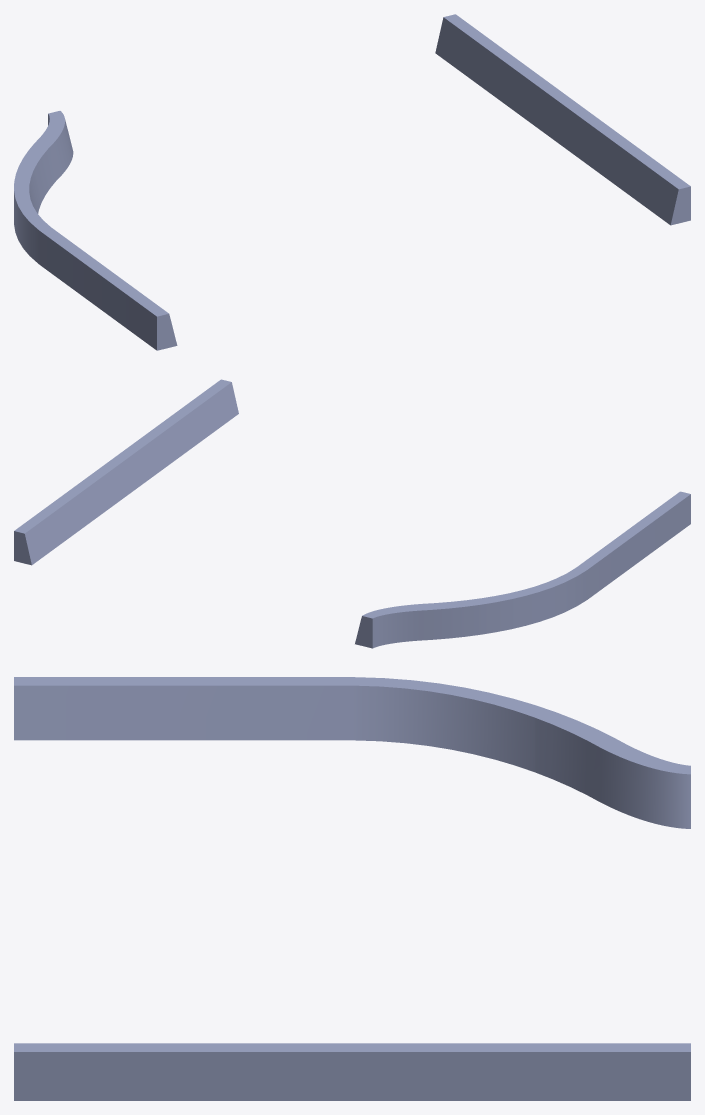
Rendered from road-side-entry-barrier.glb.
The picture shows the model from 3 angles, top to bottom: view 1: azimuth 30°, elevation 25°; view 2: azimuth 150°, elevation 25°; view 3: azimuth 270°, elevation 25°; orthographic projection. The views are drawn at different scales.
Parts seen in each view (by area): view 1: road-side-entry-barrier; view 2: road-side-entry-barrier; view 3: road-side-entry-barrier.
Part boxes in pixels (<box>): road-side-entry-barrier: <box>14,14,690,350</box>; road-side-entry-barrier: <box>14,379,690,648</box>; road-side-entry-barrier: <box>14,677,690,1100</box>.
Bounding box in the file's own units: 13.1 × 0.7996 × 10.
Materials: 1 (1 with a texture image).
